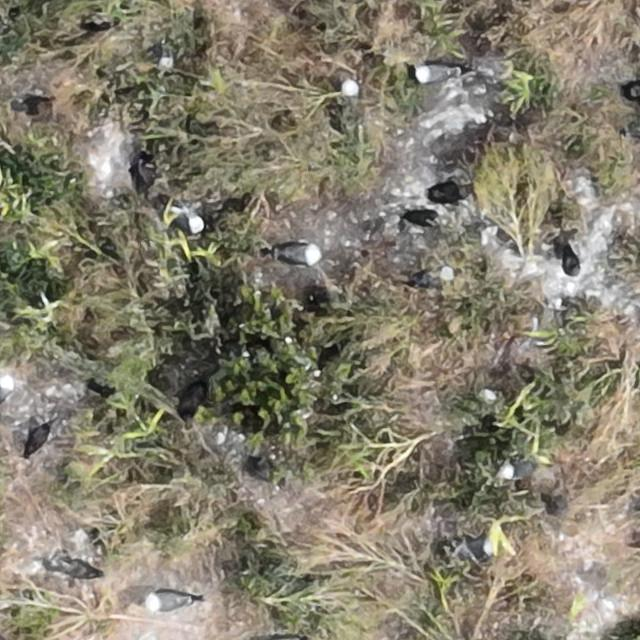umineko: (418, 266, 458, 287), (278, 243, 319, 263), (460, 539, 495, 560), (148, 592, 186, 609), (180, 210, 204, 236), (417, 64, 450, 81), (504, 463, 533, 480), (0, 374, 15, 402), (340, 78, 358, 97), (477, 389, 499, 403)
